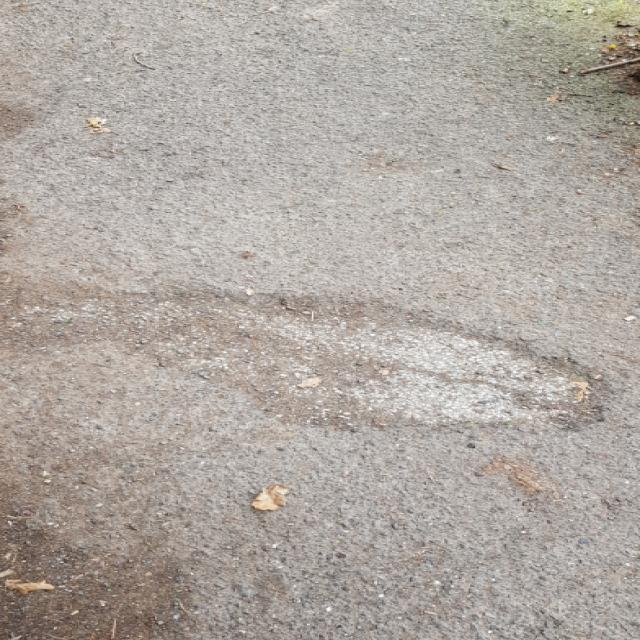Pothole: (3, 285, 615, 434)
